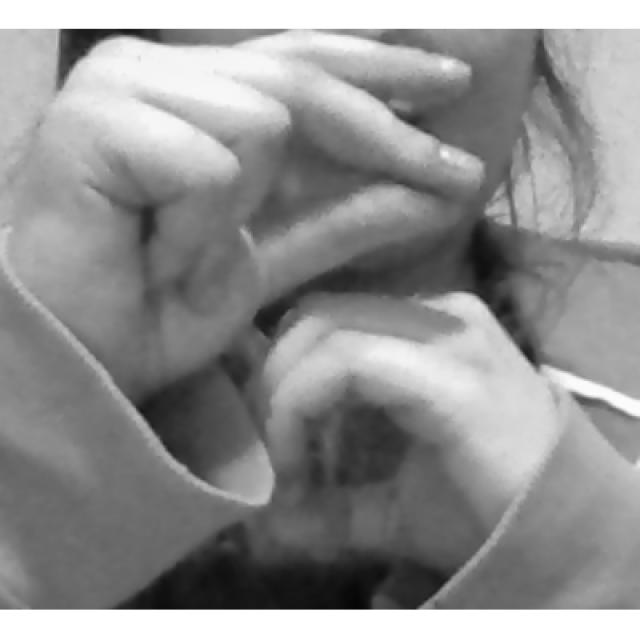O--: (15, 32, 578, 570)
